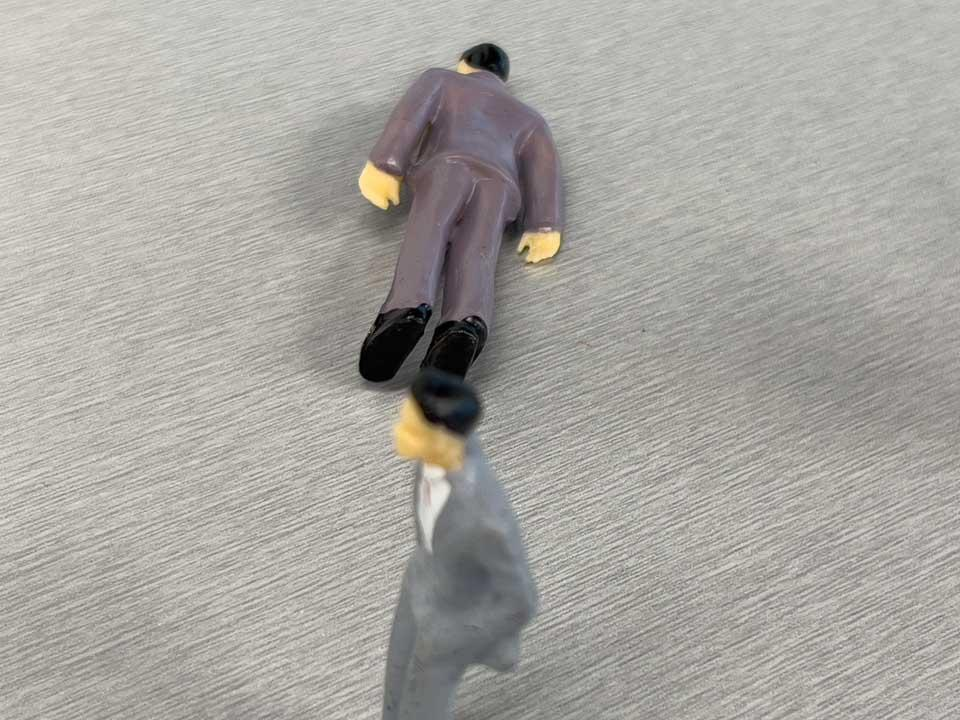human: (357, 38, 564, 393), (381, 365, 542, 720)
